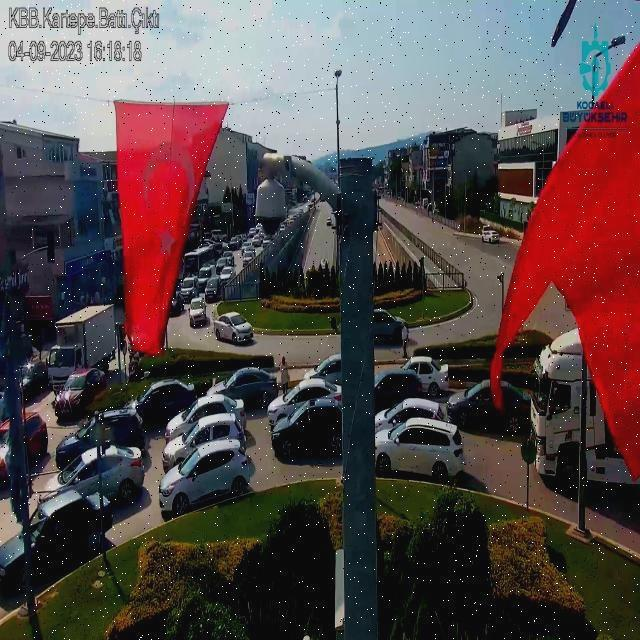Car: (1, 494, 111, 588), (157, 440, 255, 518), (41, 441, 146, 508), (370, 418, 472, 480), (160, 410, 247, 472), (446, 378, 535, 433), (268, 395, 342, 459), (0, 410, 47, 485), (199, 367, 278, 410), (126, 379, 195, 427), (376, 396, 450, 436), (51, 368, 108, 419), (370, 368, 422, 408), (400, 356, 451, 395), (12, 356, 48, 398), (212, 311, 255, 343), (370, 308, 409, 343), (303, 354, 344, 384), (188, 297, 208, 327), (179, 276, 199, 302), (204, 276, 223, 302), (195, 271, 213, 292), (218, 266, 236, 283), (215, 257, 233, 274), (481, 228, 500, 244), (242, 250, 256, 266)
Truck: (528, 331, 639, 498), (52, 306, 121, 375)
